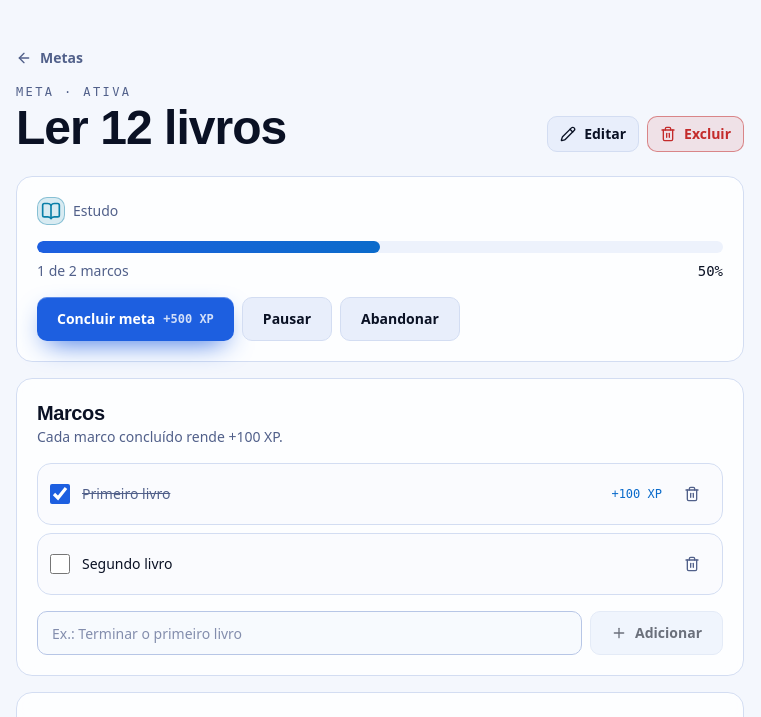
Test case: GoalDetailPage › marcos › adiciona um marco com o título digitado e limpa o campo
Type "Terceiro livro" into the field named "Novo marco" at (310, 633), box [37,611,582,655]
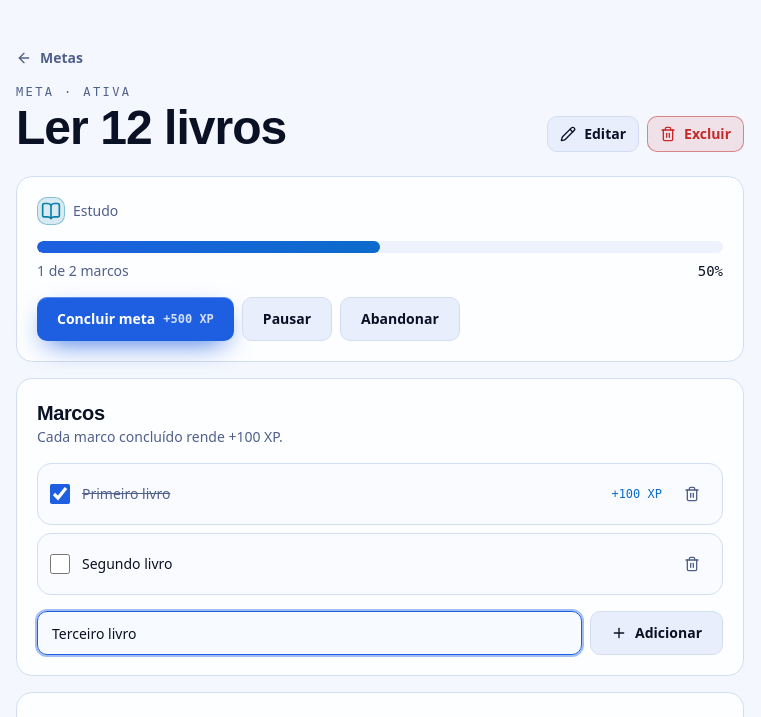
Click the button "Adicionar" at (657, 633), box [590,611,723,655]
(page scrolled)
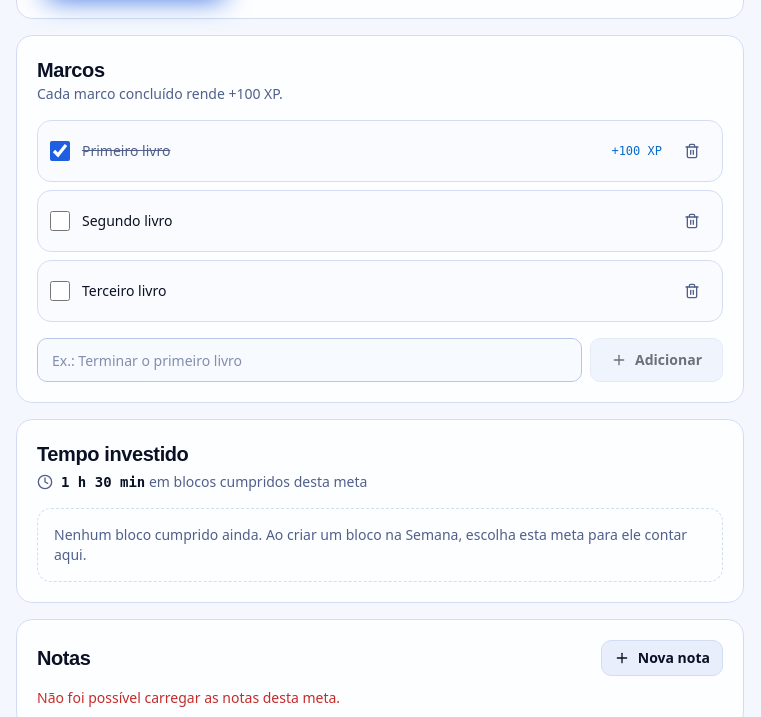
Now the checkbox labelled "Terceiro livro" is shown, box [50,281,70,301]
Now the field named "Novo marco" is empty, box [37,338,582,382]
